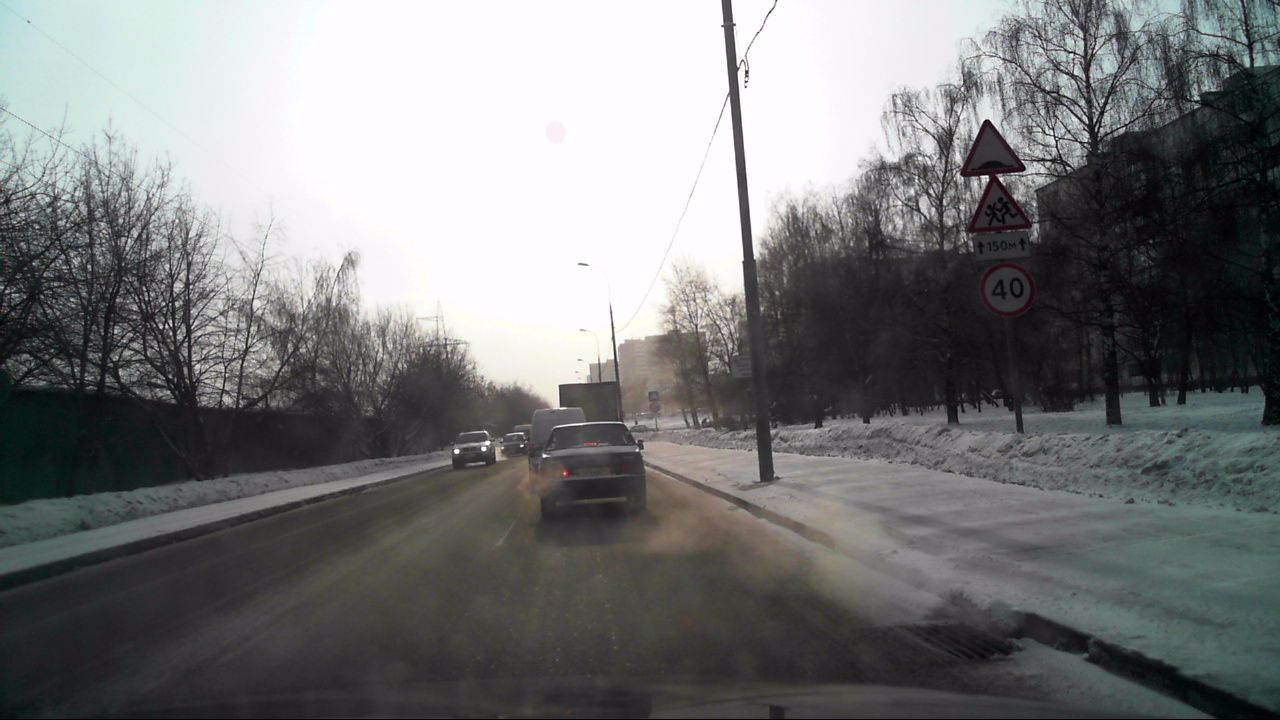speed_warning_40: (981, 265, 1031, 316)
